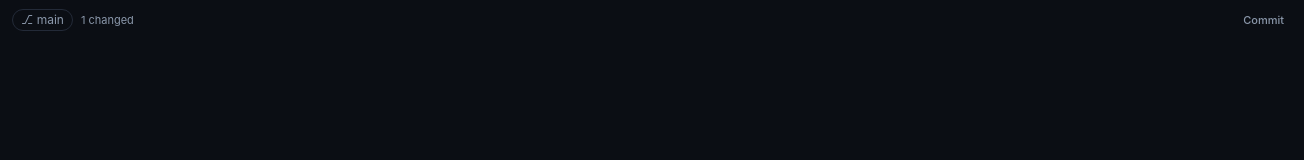
Scenario: GitBar › surfaces git errors instead of failing silently
Click the button "Commit".
click(1264, 20)  # box [1235,8,1292,32]
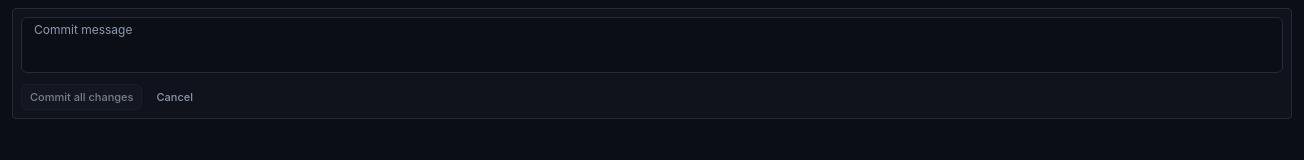
Type "msg" into the text box labelled "Commit message".
click(652, 45); type("msg")  # box [21,17,1283,73]
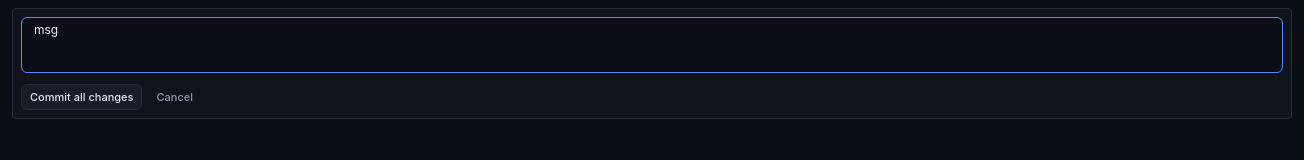
Click the button "Commit all changes".
click(82, 97)  # box [21,84,142,110]
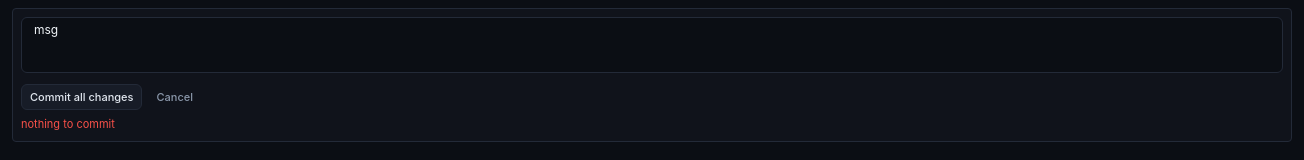
Expected: the text "nothing to commit" is shown, [21,117,115,131]
